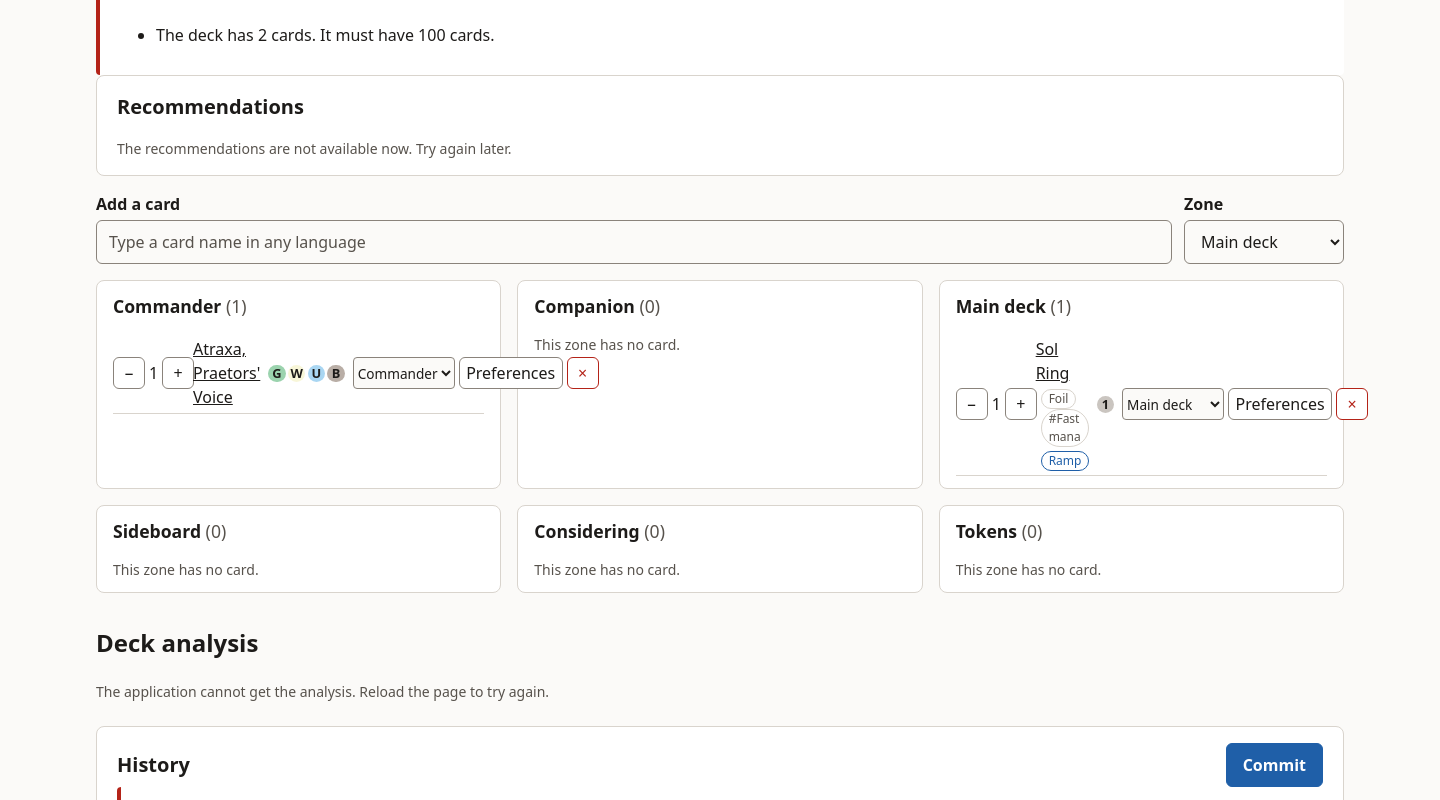
Test: decks › shows the zones, the legality and changes a quantity
The width and height of the screenshot is (1440, 800).
(page scrolled)
Expected: the link "Sol Ring" is shown, [1036, 338, 1070, 384]
Expected: the text "#Fast mana" is shown, [1041, 410, 1089, 448]
Click the button named "Add one Sol Ring" at (1021, 404), box [1005, 388, 1037, 420]
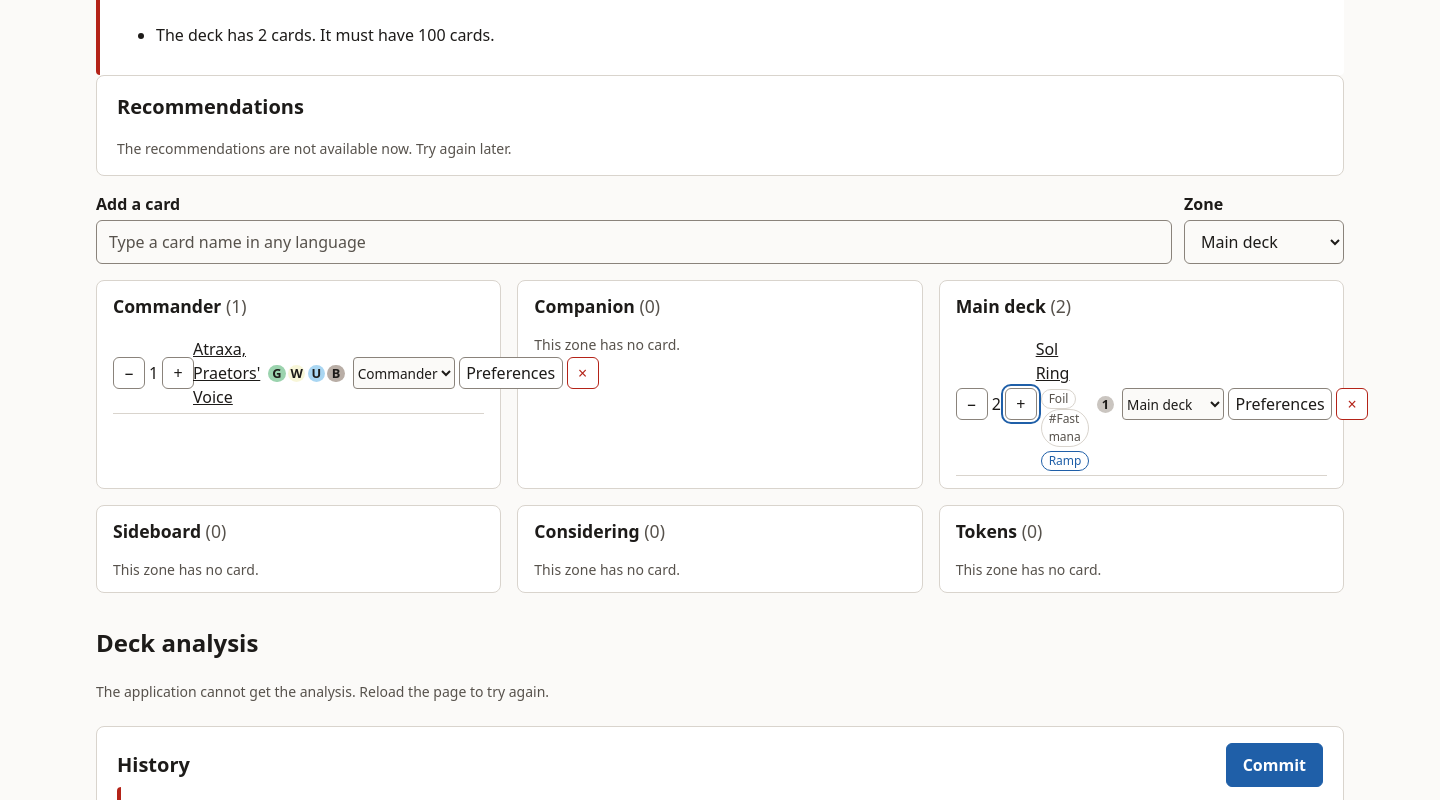
Expected: the text named "Quantity of Sol Ring" reads "2", [992, 394, 1001, 416]
